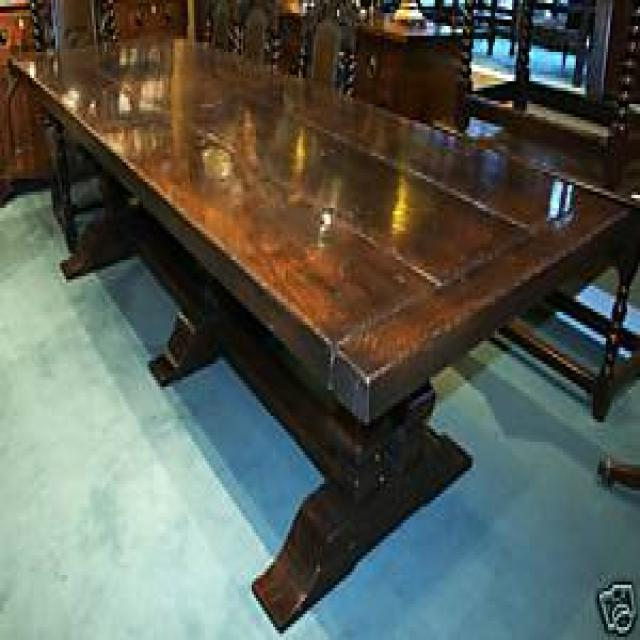table: (9, 34, 631, 628)
